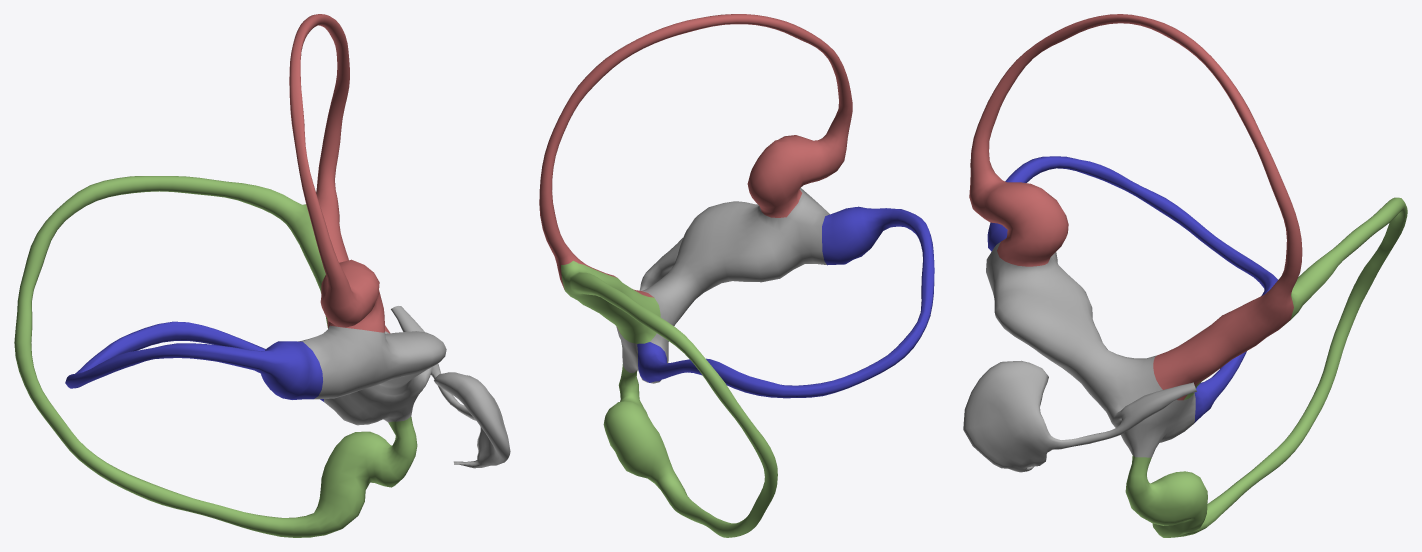
The model's file is endolymph.glb.
3 renders of one model, left to right at view 1: azimuth 30°, elevation 25°; view 2: azimuth 150°, elevation 25°; view 3: azimuth 270°, elevation 25°, orthographic. The views are drawn at different scales.
Parts seen in each view (by area): view 1: SCC_endolymph; view 2: SCC_endolymph; view 3: SCC_endolymph.
Boxes of the visible parts, box(x1,y1,x2,y2) form: SCC_endolymph: box(14, 14, 510, 537); SCC_endolymph: box(539, 14, 934, 537); SCC_endolymph: box(963, 14, 1407, 537).
Bounding box in the file's own units: 2.81 × 3.89 × 3.09.
